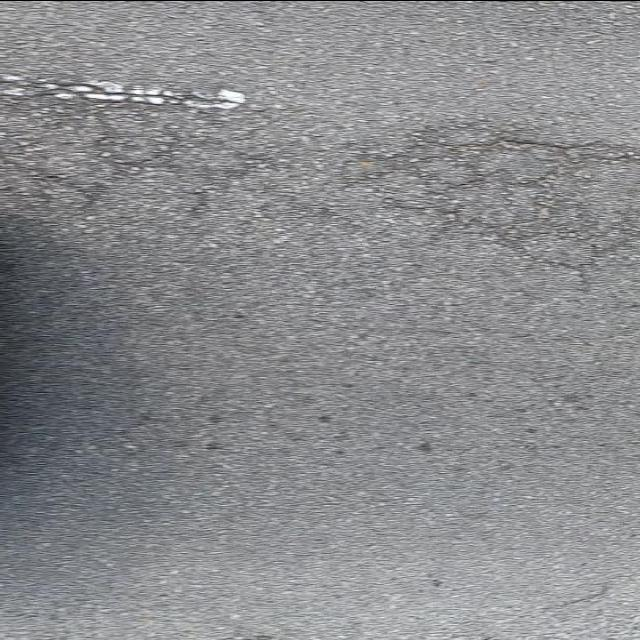cracks: (0, 73, 634, 319)
